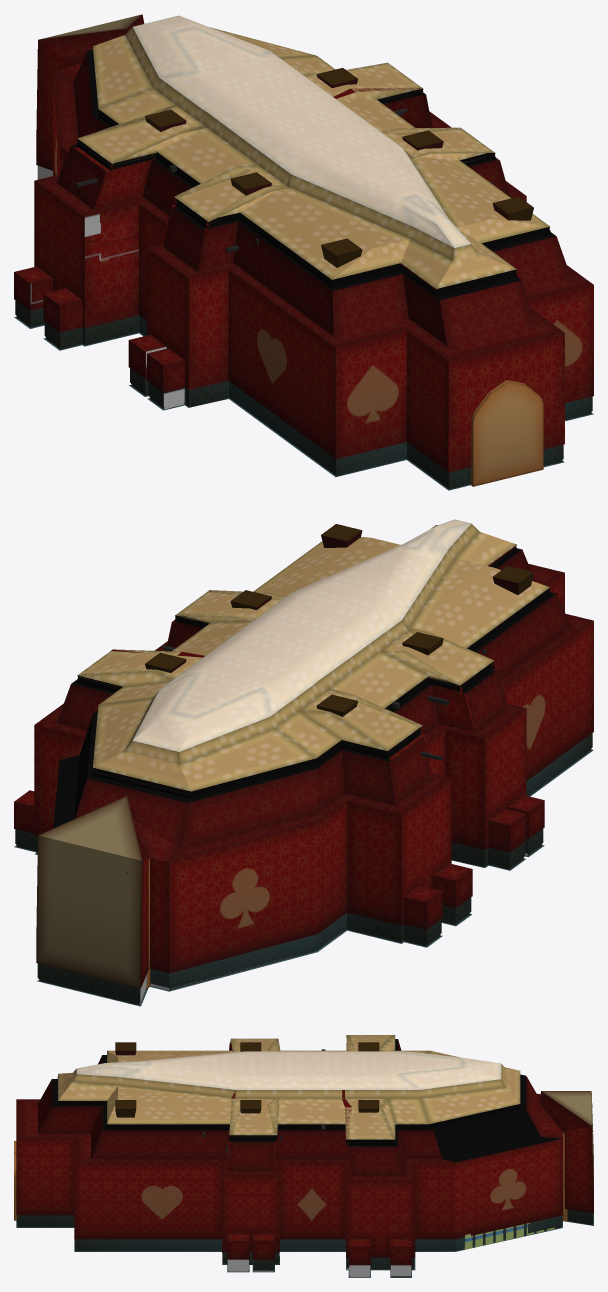
The model's file is CH26_EnvironmentAssets.fbx.
The picture shows the model from 3 angles, top to bottom: view 1: azimuth 30°, elevation 25°; view 2: azimuth 150°, elevation 25°; view 3: azimuth 270°, elevation 25°; orthographic projection. The views are drawn at different scales.
Visible parts, largest first — view 1: Glass_Ceiling, Column; view 2: Glass_Ceiling, Column; view 3: Glass_Ceiling, Column, Slot_Machine.
Part boxes in pixels (<box>): Glass_Ceiling: <box>14,14,593,490</box>; Column: <box>145,68,533,267</box>; Glass_Ceiling: <box>14,519,593,1006</box>; Column: <box>145,524,533,716</box>; Glass_Ceiling: <box>14,1035,593,1277</box>; Column: <box>115,1042,379,1117</box>; Slot_Machine: <box>464,1223,554,1249</box>.
Size of the model in its own units: 3286 by 1599 by 5787.
